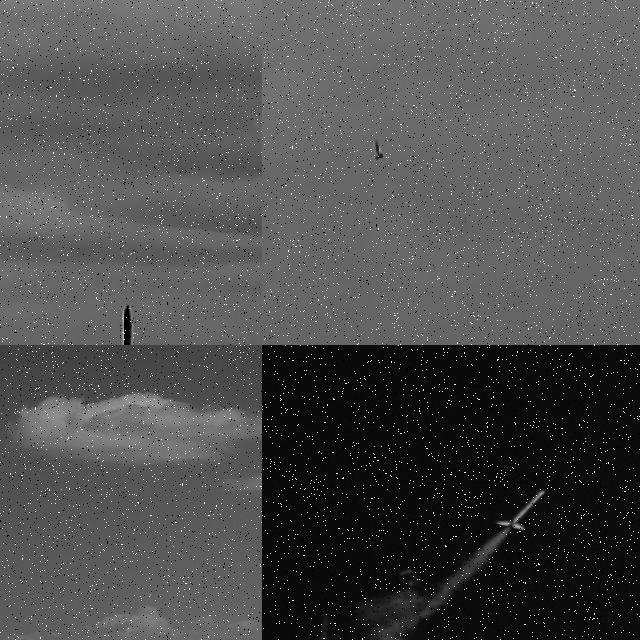Rocket: (496, 489, 547, 531), (117, 302, 137, 345), (372, 139, 384, 161)
